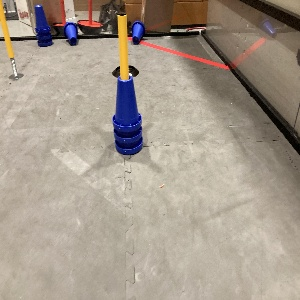Blue_1: (62, 21, 79, 46), (129, 20, 145, 46)
Blue_3: (110, 74, 145, 157), (31, 4, 55, 48)
